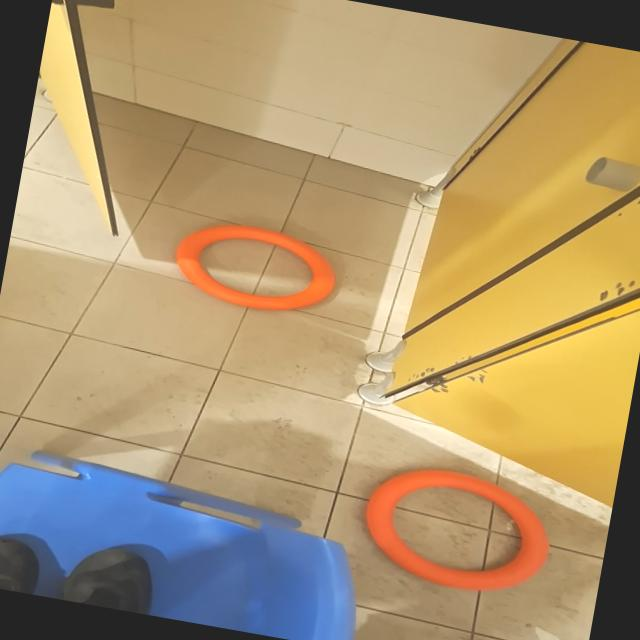note: (352, 455, 560, 604), (166, 212, 343, 322)
